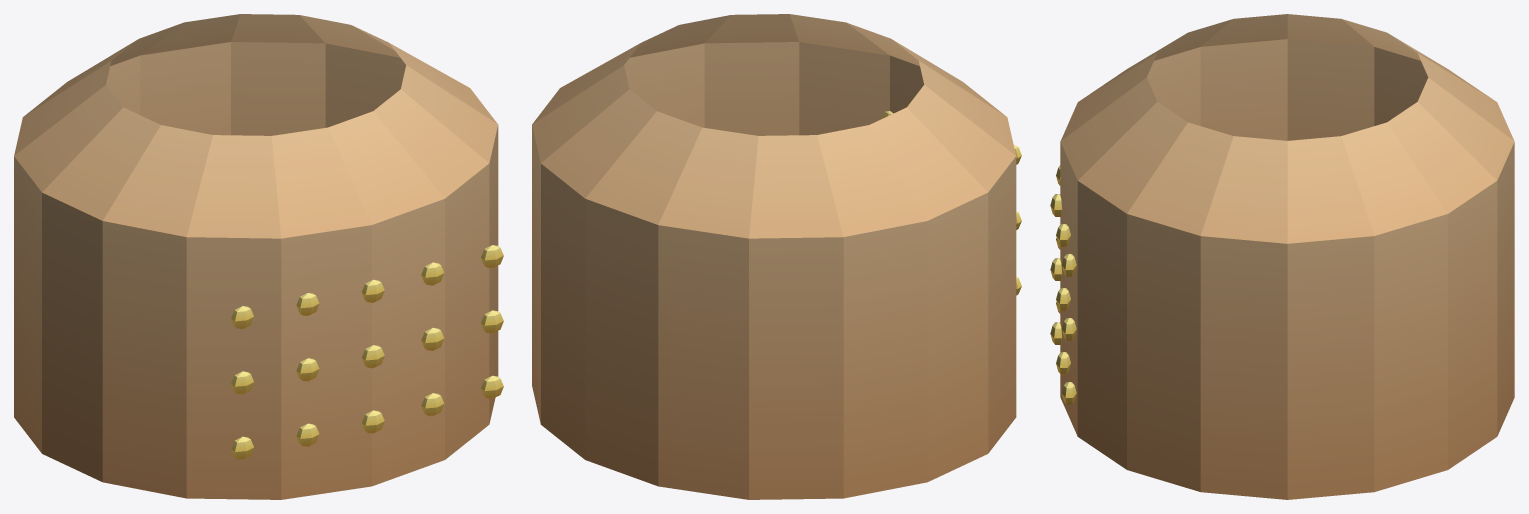
Rendered from studded_tunic.glb.
3 renders of one model, left to right at view 1: azimuth 30°, elevation 25°; view 2: azimuth 150°, elevation 25°; view 3: azimuth 270°, elevation 25°, orthographic. The views are drawn at different scales.
Parts seen in each view (by area): view 1: studded_tunic; view 2: studded_tunic; view 3: studded_tunic.
Part boxes in pixels (box(x1,y1,x2,y2)): studded_tunic: box(14, 14, 503, 499); studded_tunic: box(532, 14, 1021, 499); studded_tunic: box(1050, 14, 1514, 499).
Size of the model in its own units: 0.96 by 0.7 by 0.92.
Materials: 1 (1 with a texture image).
